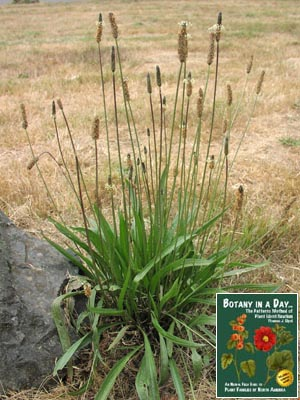buckhorn plantain: (13, 5, 245, 319)
